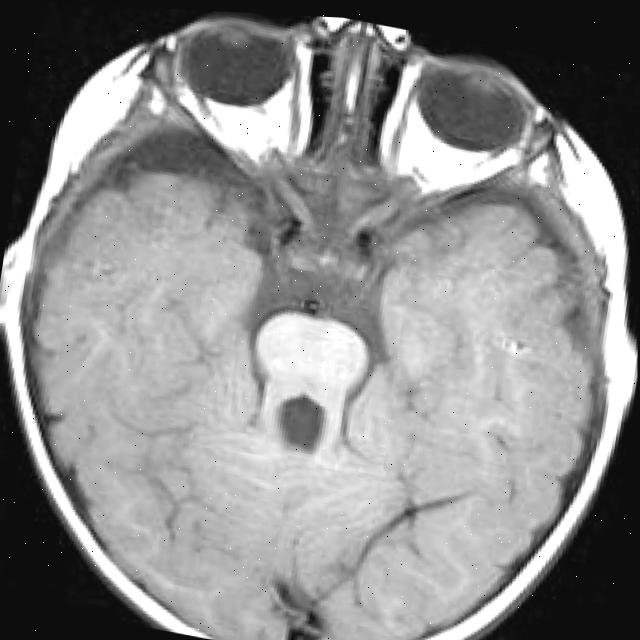NoTumor: (0, 105, 639, 640)
